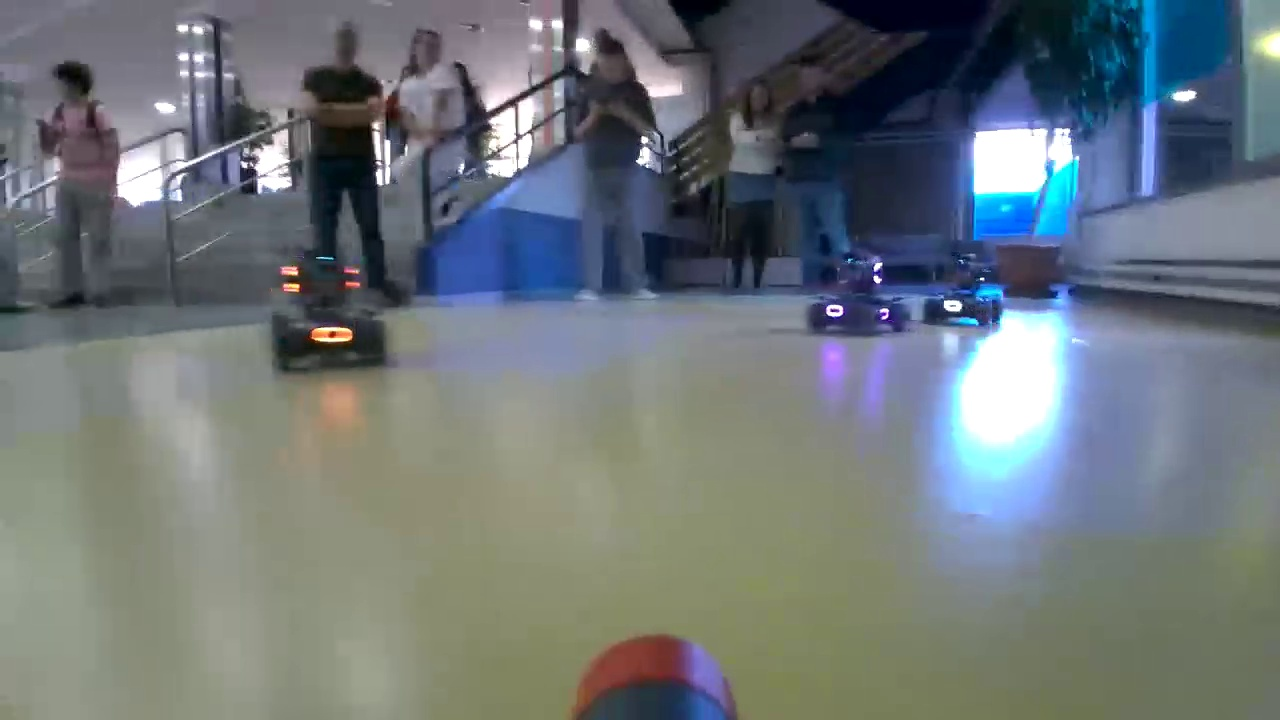robot: (276, 252, 403, 368), (808, 258, 908, 334), (926, 264, 1002, 330)
